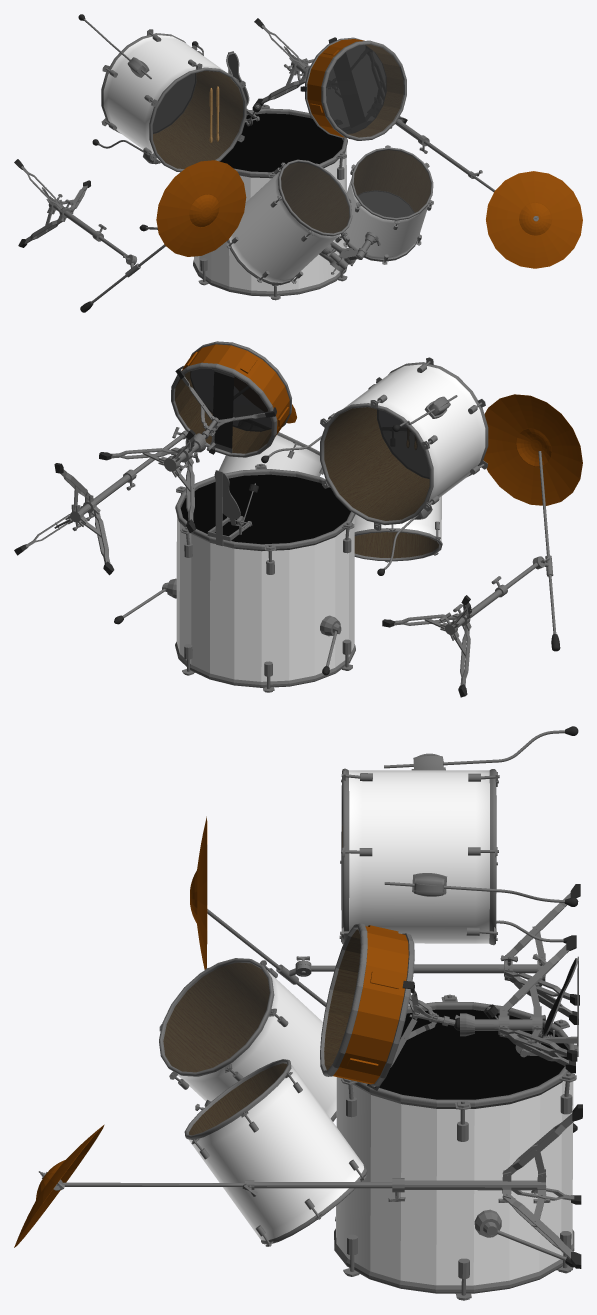
Rendered from 10377_KettleDrum.obj.
3 renders of one model, top to bottom at view 1: azimuth 30°, elevation 25°; view 2: azimuth 150°, elevation 25°; view 3: azimuth 270°, elevation 25°, orthographic. The views are drawn at different scales.
Visible parts, largest first — view 1: FloorTom_polySurface12, UpperTom1_polySurface6, Cymbals, Crash, BassDrum_polySurface15, UpperTom2_polySurface3, FloorTom_polySurface11, polySurface7_Snare, Snare_polySurface9, BassDrum_polySurface14, polySurface1_UpperTom2, Snare_polySurface8 (+3 smaller); view 2: BassDrum_polySurface15, FloorTom_polySurface12, Cymbals, Snare_polySurface9, polySurface10_FloorTom, BassDrum_polySurface14, Snare_polySurface8, UpperTom1_polySurface6, Crash, UpperTom2_polySurface3, polySurface7_Snare, UpperTom1_polySurface5 (+1 smaller); view 3: BassDrum_polySurface15, FloorTom_polySurface12, UpperTom2_polySurface3, UpperTom1_polySurface6, Snare_polySurface9, BassDrum_polySurface14, Crash, polySurface4_UpperTom1, Cymbals, polySurface7_Snare, polySurface1_UpperTom2.
Boxes of the visible parts, <box> form: FloorTom_polySurface12: <box>78,14,246,172</box>; UpperTom1_polySurface6: <box>226,159,352,285</box>; Cymbals: <box>14,159,246,312</box>; Crash: <box>390,116,582,268</box>; BassDrum_polySurface15: <box>139,51,380,300</box>; UpperTom2_polySurface3: <box>341,145,433,264</box>; FloorTom_polySurface11: <box>152,71,242,168</box>; polySurface7_Snare: <box>326,44,403,137</box>; Snare_polySurface9: <box>254,18,406,140</box>; BassDrum_polySurface14: <box>220,114,342,172</box>; polySurface1_UpperTom2: <box>353,150,430,217</box>; Snare_polySurface8: <box>326,45,386,133</box>; BassDrum_polySurface15: <box>114,463,355,692</box>; FloorTom_polySurface12: <box>261,357,488,575</box>; Cymbals: <box>382,394,582,697</box>; Snare_polySurface9: <box>99,341,291,532</box>; polySurface10_FloorTom: <box>324,407,429,520</box>; BassDrum_polySurface14: <box>181,475,349,544</box>; Snare_polySurface8: <box>175,368,271,453</box>; UpperTom1_polySurface6: <box>354,496,442,562</box>; Crash: <box>14,404,296,575</box>; UpperTom2_polySurface3: <box>219,432,323,476</box>; polySurface7_Snare: <box>191,369,271,431</box>; UpperTom1_polySurface5: <box>354,532,439,558</box>; BassDrum_polySurface15: <box>195,956,578,1300</box>; FloorTom_polySurface12: <box>339,726,578,945</box>; UpperTom2_polySurface3: <box>184,1059,367,1246</box>; UpperTom1_polySurface6: <box>159,958,336,1121</box>; Snare_polySurface9: <box>320,923,577,1090</box>; BassDrum_polySurface14: <box>379,1010,566,1099</box>; Crash: <box>14,1104,582,1268</box>; polySurface4_UpperTom1: <box>163,962,269,1072</box>; Cymbals: <box>190,816,580,1024</box>; polySurface7_Snare: <box>324,929,360,1070</box>; polySurface1_UpperTom2: <box>189,1063,287,1135</box>.
Bounding box in the file's own units: 167 × 105 × 133.
6 materials, 2 textured.
